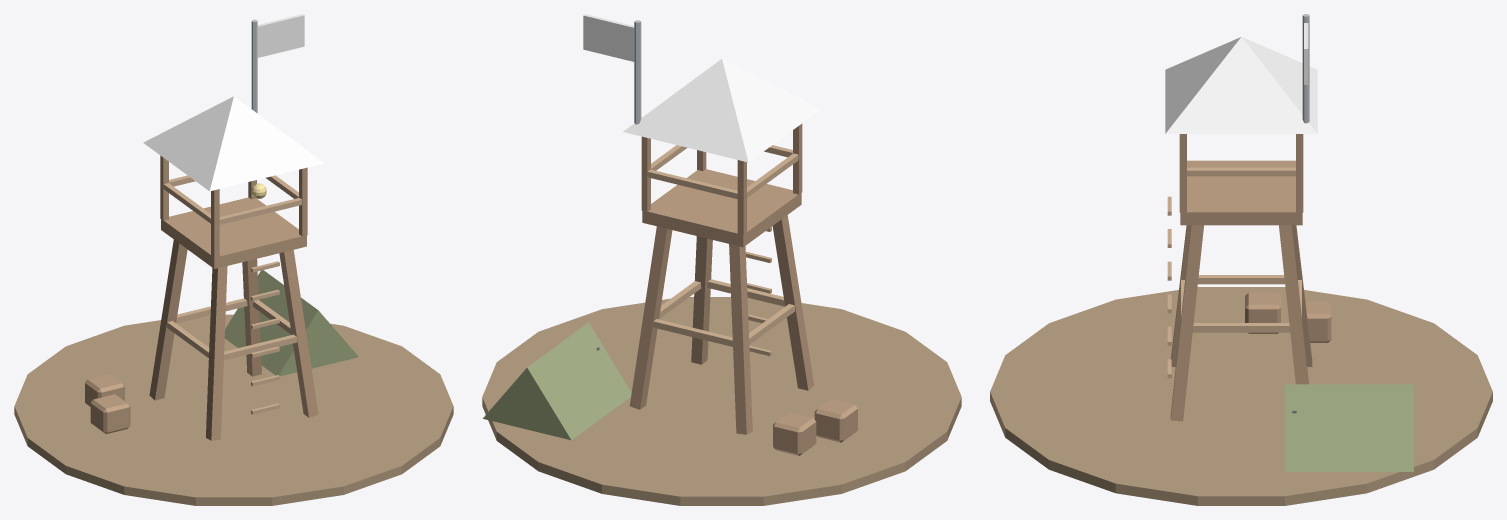
Rendered from outpost.glb.
3 renders of one model, left to right at view 1: azimuth 30°, elevation 25°; view 2: azimuth 150°, elevation 25°; view 3: azimuth 270°, elevation 25°, orthographic. The views are drawn at different scales.
Parts seen in each view (by area): view 1: main; view 2: main; view 3: main.
Boxes of the visible parts, x1=… form: main: x1=14, y1=14, x2=453, y2=505; main: x1=482, y1=14, x2=961, y2=505; main: x1=990, y1=14, x2=1492, y2=505.
Size of the model in its own units: 1.38 by 1.27 by 1.4.
